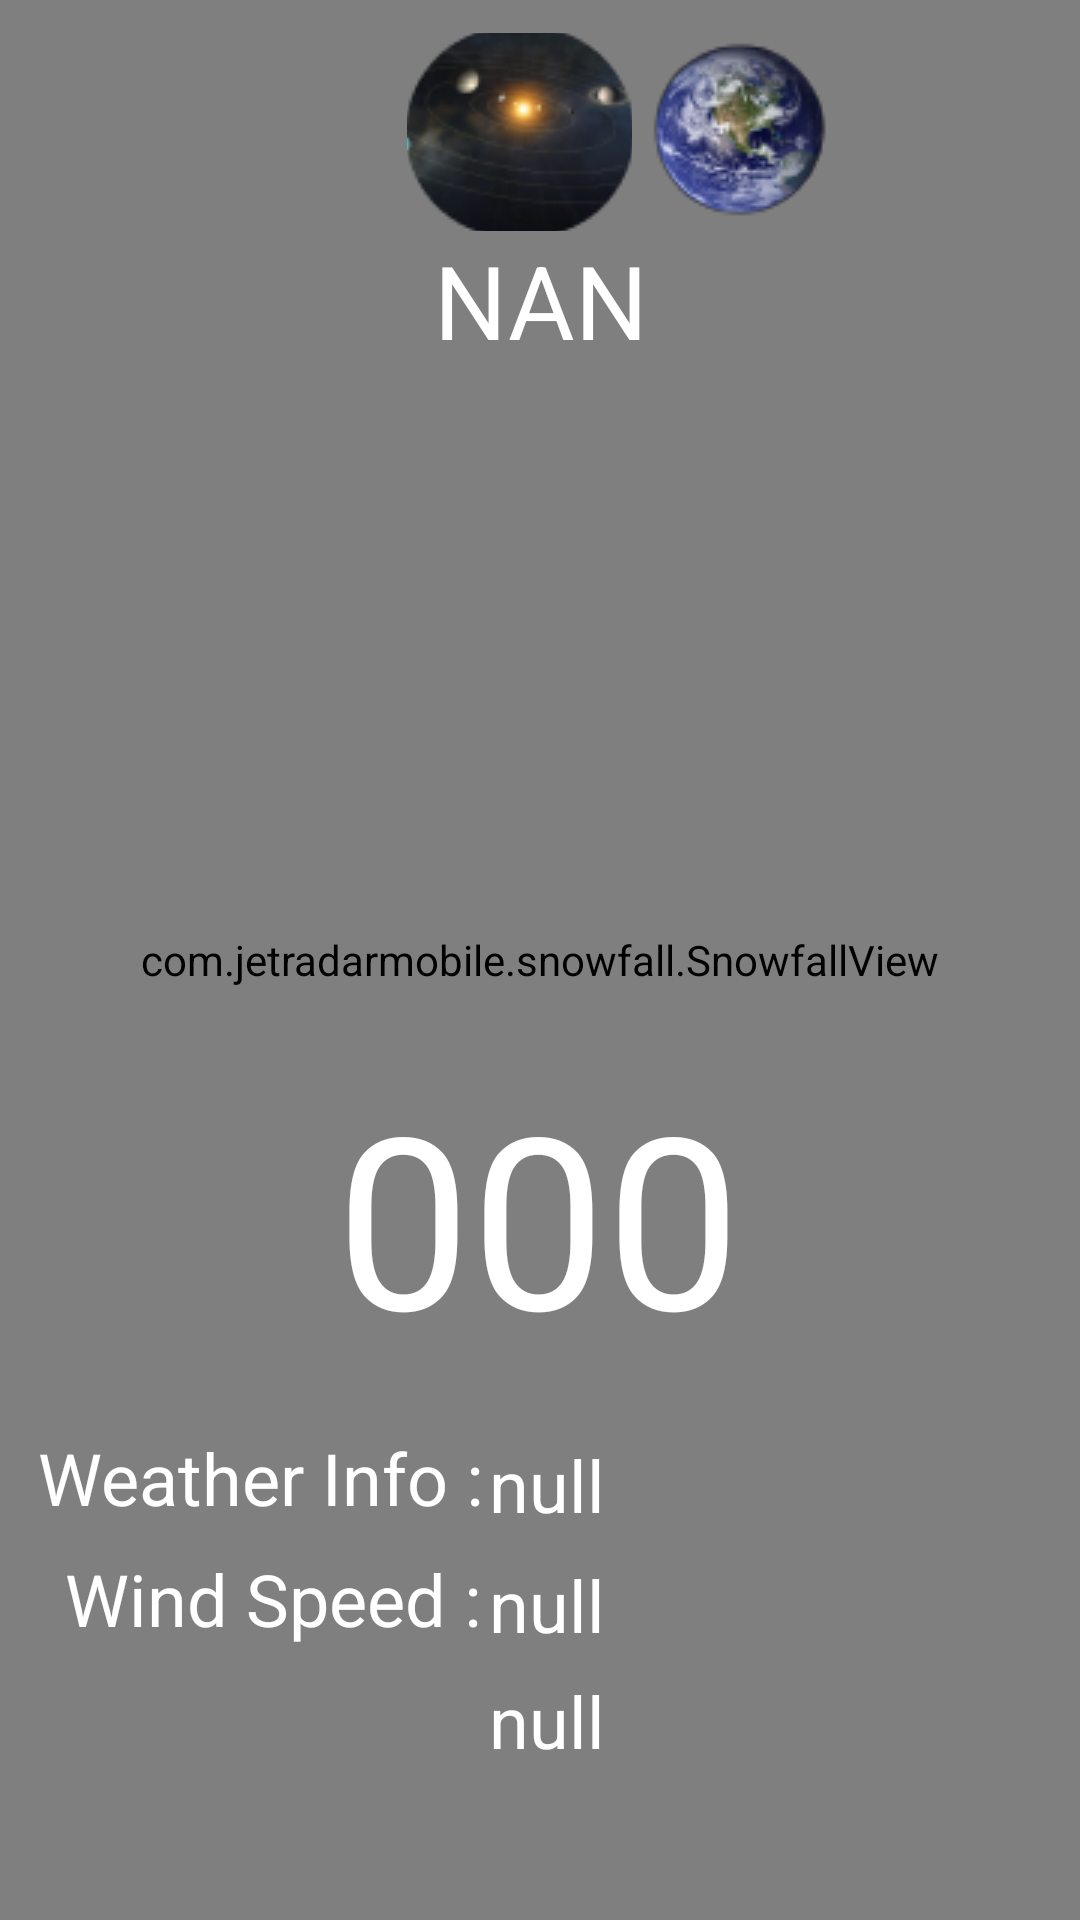

Where to tap for icons on this 1080*1920 app screen, as (x=x, y=y):
earth: (x=739, y=129)
solarsystem: (x=519, y=132)
